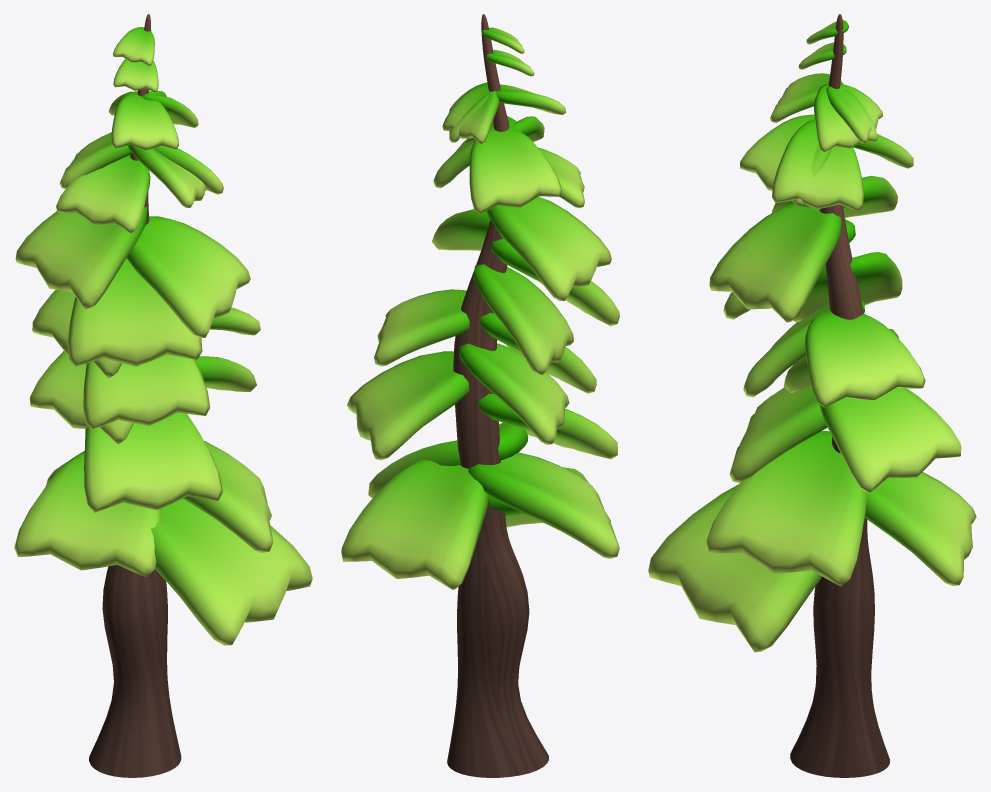
File: arbol_grande_2.fbx
3 renders of one model, left to right at view 1: azimuth 30°, elevation 25°; view 2: azimuth 150°, elevation 25°; view 3: azimuth 270°, elevation 25°, orthographic.
Visible parts, largest first — view 1: Arbol1_2, Arbol1_2|Hoja1|Dupli|21, Arbol1_2|Hoja1|Dupli|16, Arbol1_2|Hoja1|Dupli|13, Arbol1_2|Hoja1|Dupli|20, Arbol1_2|Hoja1|Dupli|19, Arbol1_2|Hoja1|Dupli|18, Arbol1_2|Hoja1|Dupli|7, Arbol1_2|Hoja1|Dupli|14, Arbol1_2|Hoja1|Dupli|2, Arbol1_2|Hoja1|Dupli|15, Arbol1_2|Hoja1|Dupli|8 (+9 smaller); view 2: Arbol1_2, Arbol1_2|Hoja1|Dupli|10, Arbol1_2|Hoja1|Dupli|13, Arbol1_2|Hoja1|Dupli|17, Arbol1_2|Hoja1|Dupli|18, Arbol1_2|Hoja1|Dupli|6, Arbol1_2|Hoja1|Dupli|12, Arbol1_2|Hoja1|Dupli|15, Arbol1_2|Hoja1|Dupli|4, Arbol1_2|Hoja1|Dupli|16, Arbol1_2|Hoja1|Dupli|2, Arbol1_2|Hoja1|Dupli|19 (+11 smaller); view 3: Arbol1_2, Arbol1_2|Hoja1|Dupli|2, Arbol1_2|Hoja1|Dupli|21, Arbol1_2|Hoja1|Dupli|20, Arbol1_2|Hoja1|Dupli|17, Arbol1_2|Hoja1|Dupli|4, Arbol1_2|Hoja1|Dupli|10, Arbol1_2|Hoja1|Dupli|9, Arbol1_2|Hoja1|Dupli|16, Arbol1_2|Hoja1|Dupli|12, Arbol1_2|Hoja1|Dupli|3, Arbol1_2|Hoja1|Dupli|7 (+7 smaller).
Boxes of the visible parts, left/top/right/bottom form: Arbol1_2: left=89, top=14, right=181, bottom=777; Arbol1_2|Hoja1|Dupli|21: left=151, top=498, right=312, bottom=645; Arbol1_2|Hoja1|Dupli|16: left=84, top=412, right=222, bottom=512; Arbol1_2|Hoja1|Dupli|13: left=14, top=451, right=161, bottom=576; Arbol1_2|Hoja1|Dupli|20: left=127, top=216, right=250, bottom=337; Arbol1_2|Hoja1|Dupli|19: left=67, top=258, right=202, bottom=366; Arbol1_2|Hoja1|Dupli|18: left=15, top=207, right=147, bottom=309; Arbol1_2|Hoja1|Dupli|7: left=83, top=354, right=210, bottom=429; Arbol1_2|Hoja1|Dupli|14: left=56, top=155, right=150, bottom=233; Arbol1_2|Hoja1|Dupli|2: left=183, top=441, right=273, bottom=552; Arbol1_2|Hoja1|Dupli|15: left=29, top=351, right=133, bottom=444; Arbol1_2|Hoja1|Dupli|8: left=111, top=92, right=178, bottom=150; Arbol1_2: left=447, top=14, right=548, bottom=777; Arbol1_2|Hoja1|Dupli|10: left=341, top=459, right=489, bottom=589; Arbol1_2|Hoja1|Dupli|13: left=468, top=452, right=619, bottom=558; Arbol1_2|Hoja1|Dupli|17: left=347, top=351, right=469, bottom=460; Arbol1_2|Hoja1|Dupli|18: left=486, top=196, right=611, bottom=300; Arbol1_2|Hoja1|Dupli|6: left=469, top=126, right=561, bottom=213; Arbol1_2|Hoja1|Dupli|12: left=473, top=264, right=573, bottom=374; Arbol1_2|Hoja1|Dupli|15: left=459, top=343, right=569, bottom=444; Arbol1_2|Hoja1|Dupli|4: left=374, top=289, right=469, bottom=366; Arbol1_2|Hoja1|Dupli|16: left=478, top=394, right=617, bottom=459; Arbol1_2|Hoja1|Dupli|2: left=368, top=422, right=528, bottom=498; Arbol1_2|Hoja1|Dupli|19: left=492, top=238, right=619, bottom=326; Arbol1_2: left=790, top=14, right=889, bottom=777; Arbol1_2|Hoja1|Dupli|2: left=705, top=430, right=866, bottom=586; Arbol1_2|Hoja1|Dupli|21: left=648, top=484, right=822, bottom=652; Arbol1_2|Hoja1|Dupli|20: left=709, top=203, right=842, bottom=322; Arbol1_2|Hoja1|Dupli|17: left=819, top=387, right=961, bottom=492; Arbol1_2|Hoja1|Dupli|4: left=805, top=310, right=925, bottom=407; Arbol1_2|Hoja1|Dupli|10: left=865, top=472, right=976, bottom=585; Arbol1_2|Hoja1|Dupli|9: left=772, top=119, right=863, bottom=211; Arbol1_2|Hoja1|Dupli|16: left=729, top=385, right=827, bottom=482; Arbol1_2|Hoja1|Dupli|12: left=793, top=252, right=902, bottom=322; Arbol1_2|Hoja1|Dupli|3: left=740, top=114, right=831, bottom=207; Arbol1_2|Hoja1|Dupli|7: left=743, top=300, right=864, bottom=397.
Size of the model in its own units: 456 by 1266 by 502.
